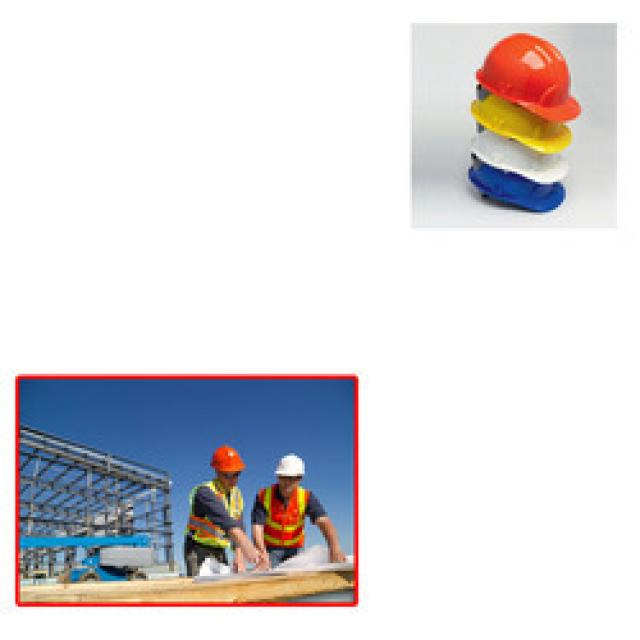Reflective-Jacket: (184, 479, 246, 550), (253, 484, 315, 553)
Safety-Helmet: (471, 31, 581, 125), (205, 443, 248, 476), (271, 450, 310, 484)
